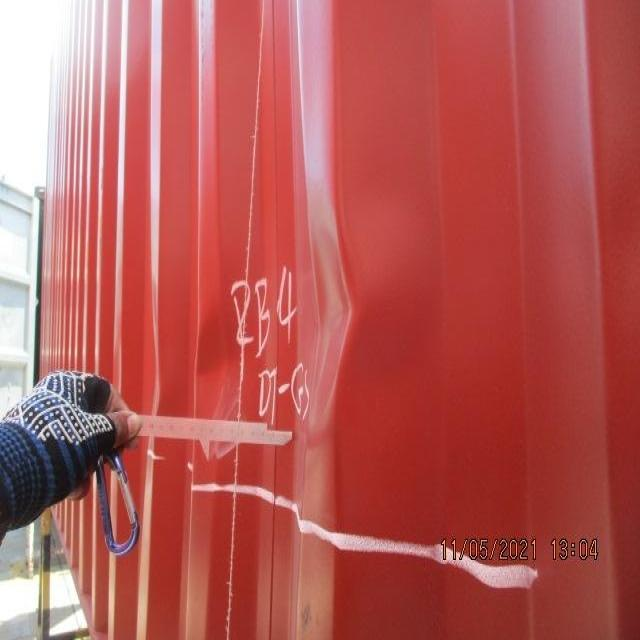dent: (115, 184, 528, 546)
